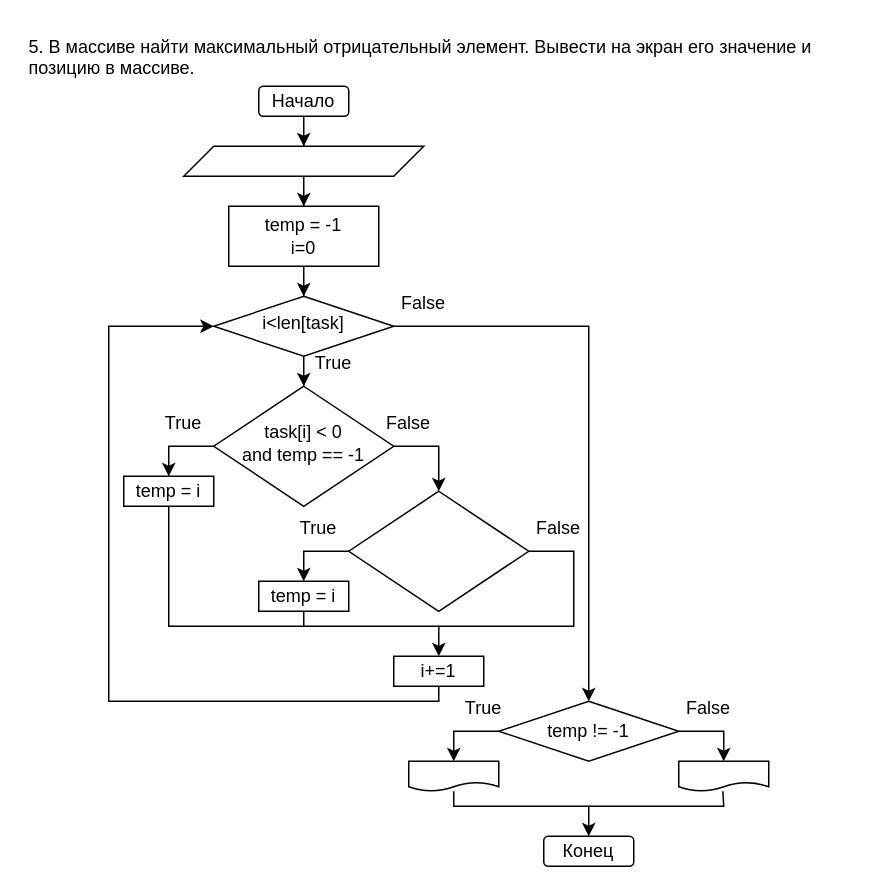
Some shapes in this 876 by 893 pixel diagram are drawn without their labels. The box of each missing label's shape, as (x1, y1, x2, y2) in pixels:
None: (677, 760, 769, 791)
task = [массив чисел]: (182, 145, 424, 176)
task[temp]: (407, 760, 499, 791)
task[temp] < task[i] < 0: (347, 490, 529, 611)
